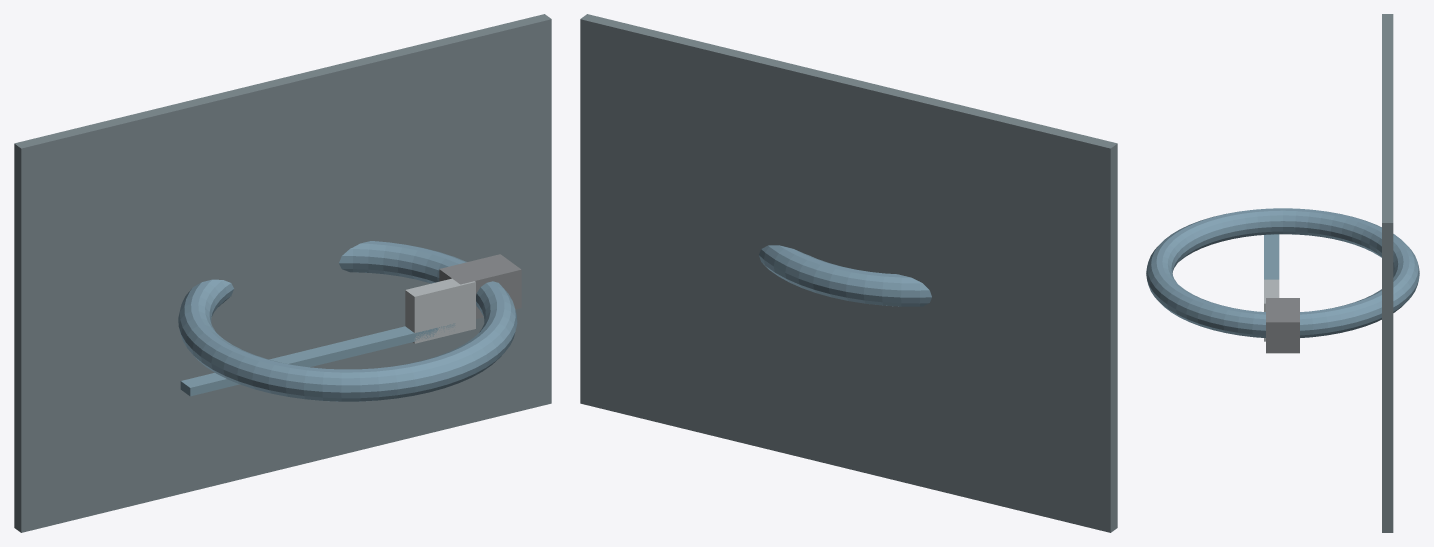
The model's file is tourniquet-high.glb.
3 views of the same model, side by side, from view 1: azimuth 30°, elevation 25°; view 2: azimuth 150°, elevation 25°; view 3: azimuth 270°, elevation 25° (orthographic). The views are drawn at different scales.
Visible parts, largest first — view 1: presentation_base_detail, tourniquet_band, buckle_detail, texture_band_detail, tourniquet_buckle; view 2: presentation_base_detail, tourniquet_band; view 3: tourniquet_band, presentation_base_detail, tourniquet_buckle, texture_band_detail, buckle_detail.
Boxes of the visible parts, <box> form: presentation_base_detail: <box>14,14,551,532</box>; tourniquet_band: <box>178,241,517,401</box>; buckle_detail: <box>405,278,475,343</box>; texture_band_detail: <box>180,323,455,396</box>; tourniquet_buckle: <box>439,254,521,318</box>; presentation_base_detail: <box>580,14,1117,532</box>; tourniquet_band: <box>759,245,931,306</box>; tourniquet_band: <box>1146,208,1419,337</box>; presentation_base_detail: <box>1382,14,1393,532</box>; tourniquet_buckle: <box>1266,298,1299,353</box>; texture_band_detail: <box>1264,234,1279,279</box>; buckle_detail: <box>1264,279,1279,341</box>.
Size of the model in its own units: 2.6 by 1.8 by 1.44.
